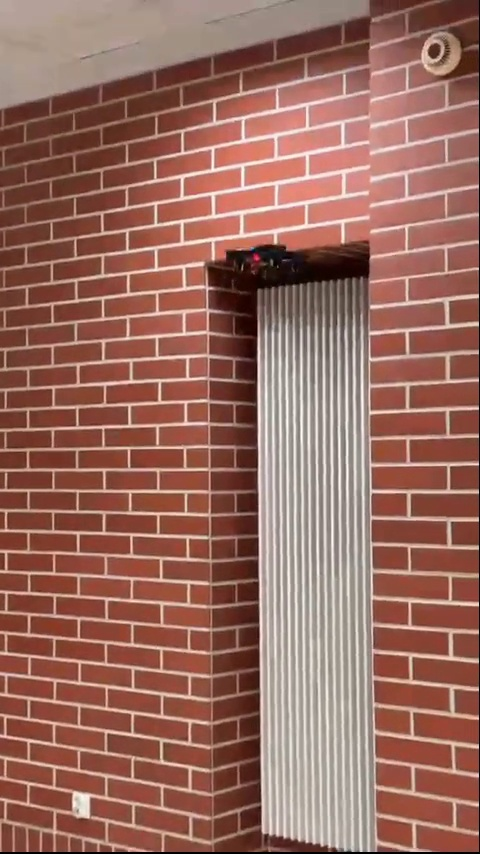drone: (223, 245, 301, 285)
